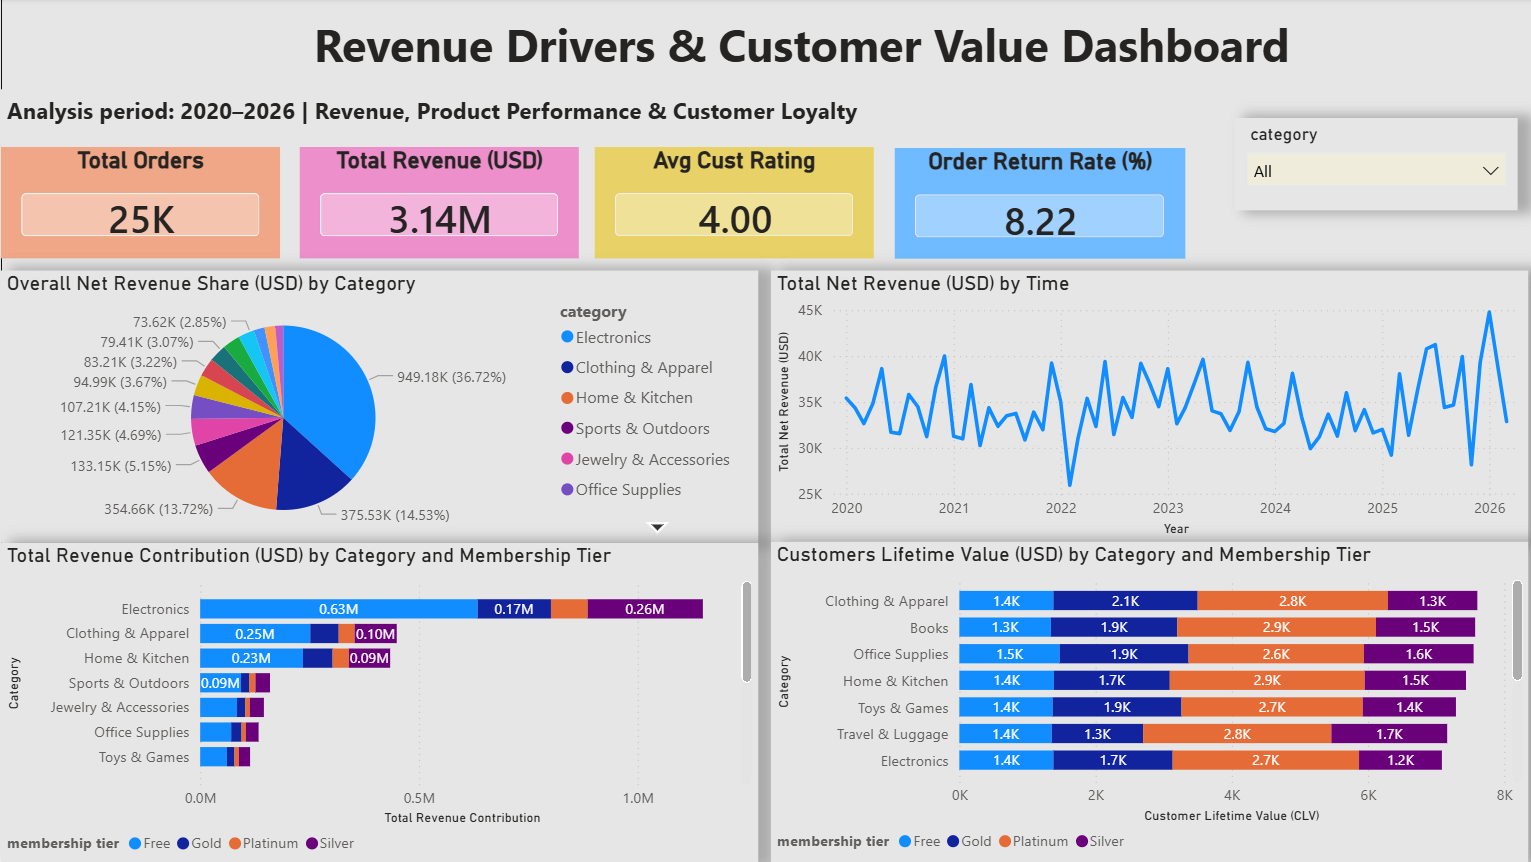

What the dashboard file says about the page in this screenshot:
{"tool":"powerbi","page":{"name":"Page 2","canvas":[1280,720],"ordinal":1},"visuals":[{"type":"textbox","box":[188.1,8.3,955.1,67.6],"z":0},{"type":"cardVisual","title":"Total Revenue (USD)","fields":{"Data":["Sum(category_performance.total_revenue)"]},"box":[248.1,124.1,232.4,92.5],"z":1000},{"type":"cardVisual","title":"Total Orders","fields":{"Data":["Sum(category_performance.total_order)"]},"box":[0,124.1,232.4,92.5],"z":2000},{"type":"cardVisual","title":"Avg Cust Rating","fields":{"Data":["Avg(category_performance.avg_cust_rating)"]},"box":[494.2,124.1,232.4,92.5],"z":3000},{"type":"cardVisual","title":"Order Return Rate (%)","fields":{"Data":["Avg(category_performance.order_return_rate_percentage)"]},"box":[743,124.4,241.9,91.9],"z":4000},{"type":"textbox","box":[0,75.7,797,48.4],"z":5000},{"type":"pieChart","title":"Overall Net Revenue Share (USD) by Category","fields":{"Category":["monthly_revenue.category"],"Y":["Sum(monthly_revenue.monthly_net_revenue)"]},"box":[0,226.1,629.8,226.1],"z":6000},{"type":"lineChart","title":"Total Net Revenue (USD) by Time","fields":{"Y":["Sum(monthly_revenue.monthly_net_revenue)"],"Category":["monthly_revenue.sales_month.Variation.Date Hierarchy.Year","monthly_revenue.sales_month.Variation.Date Hierarchy.Quarter","monthly_revenue.sales_month.Variation.Date Hierarchy.Month","monthly_revenue.sales_month.Variation.Date Hierarchy.Day"]},"box":[640.2,226.6,629.8,225.5],"z":7000},{"type":"slicer","fields":{"Values":["monthly_revenue.category"]},"box":[1025.6,99.7,235.4,76.9],"z":8000},{"type":"barChart","title":"Total Revenue Contribution (USD) by Category and Membership Tier","fields":{"Category":["customer_loyalty.category"],"Y":["Sum(customer_loyalty.revenue_contribution)"],"Series":["customer_loyalty.membership_tier"]},"box":[0,452.8,629.3,267.8],"z":9000},{"type":"barChart","title":"Customers Lifetime Value (USD) by Category and Membership Tier","fields":{"Category":["customer_loyalty.category"],"Series":["customer_loyalty.membership_tier"],"Y":["Sum(customer_loyalty.customers_lifetime_value)"]},"box":[640.2,452.1,629.8,267.1],"z":10000}]}

Visuals, with their boxes in screenshot pixels (x1, y1, x2, y2), scaled from the page's 1280x720 canvas onto the 1531x862 screenshot:
textbox: (x1=225, y1=10, x2=1367, y2=91)
"Total Revenue (USD)" cardVisual: (x1=297, y1=149, x2=575, y2=259)
"Total Orders" cardVisual: (x1=0, y1=149, x2=278, y2=259)
"Avg Cust Rating" cardVisual: (x1=591, y1=149, x2=869, y2=259)
"Order Return Rate (%)" cardVisual: (x1=889, y1=149, x2=1178, y2=259)
textbox: (x1=0, y1=91, x2=953, y2=149)
"Overall Net Revenue Share (USD) by Category" pieChart: (x1=0, y1=271, x2=753, y2=541)
"Total Net Revenue (USD) by Time" lineChart: (x1=766, y1=271, x2=1519, y2=541)
slicer - monthly_revenue.category: (x1=1227, y1=119, x2=1508, y2=211)
"Total Revenue Contribution (USD) by Category and Membership Tier" barChart: (x1=0, y1=542, x2=753, y2=861)
"Customers Lifetime Value (USD) by Category and Membership Tier" barChart: (x1=766, y1=541, x2=1519, y2=861)
